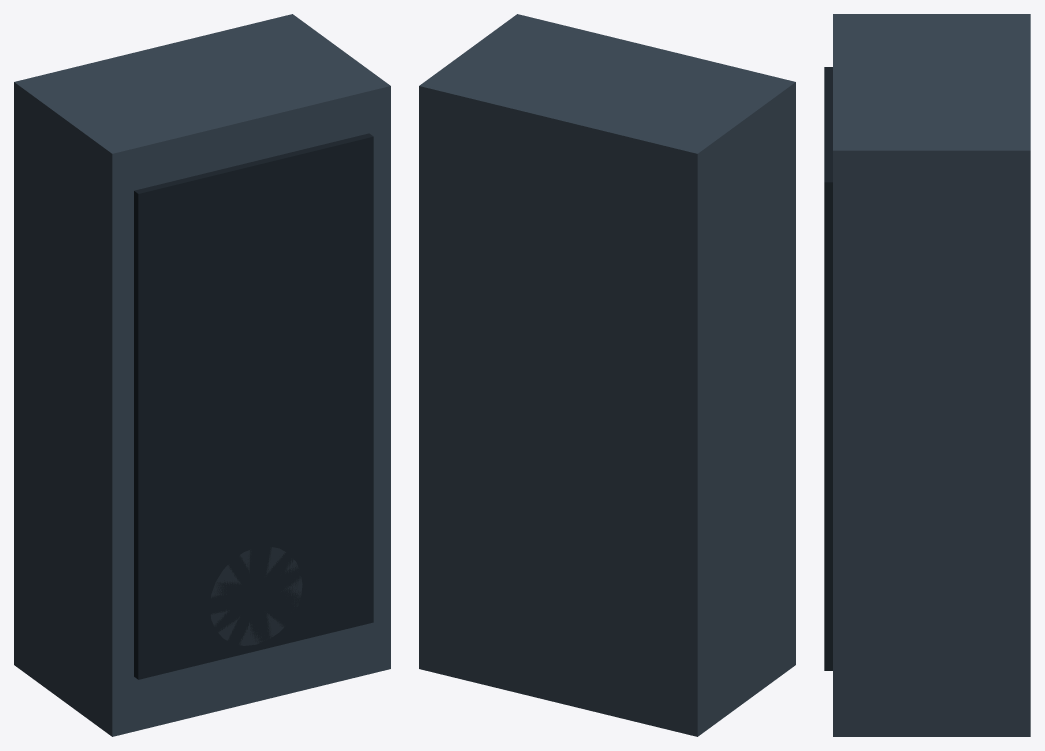
The model's file is rack.glb.
3 renders of one model, left to right at view 1: azimuth 30°, elevation 25°; view 2: azimuth 150°, elevation 25°; view 3: azimuth 270°, elevation 25°, orthographic.
Parts seen in each view (by area): view 1: merged-deviceMid, merged-devicePanel, merged-deviceDark; view 2: merged-deviceMid; view 3: merged-deviceMid, merged-devicePanel.
Boxes of the visible parts, x1,y1,x2,y2 form: merged-deviceMid: (14,14,390,736); merged-devicePanel: (134,133,373,679); merged-deviceDark: (210,547,302,645); merged-deviceMid: (419,14,795,736); merged-deviceMid: (833,14,1030,736); merged-devicePanel: (824,67,832,670).
Bounding box in the file's own units: 0.9 × 1.8 × 0.575.
